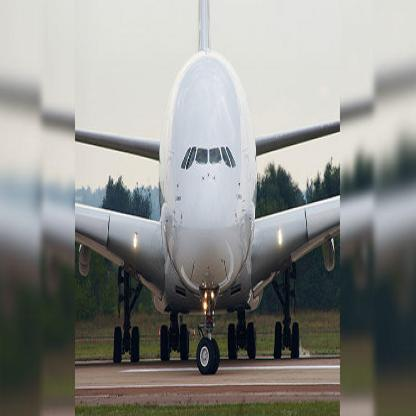CIV_Plane: (72, 0, 340, 379)
